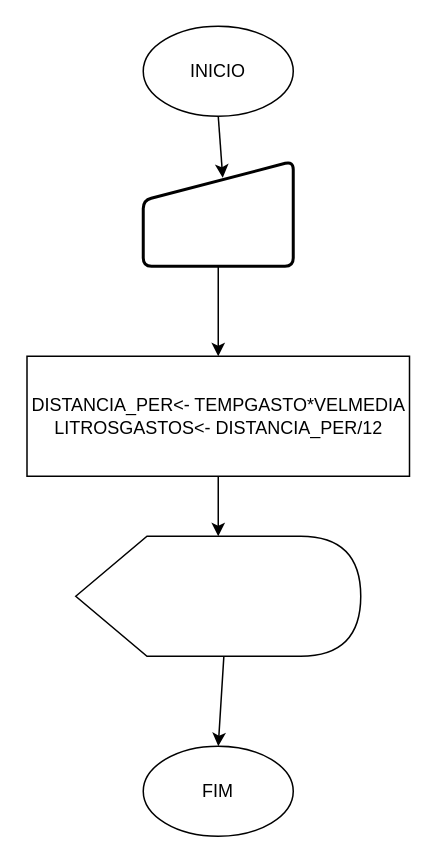
Image size: 435x863. Some labels were removed from this diagram. Here are the shapes that lost their labels. From the top down, the centre of each, then its label:
the point at 217,213: VELMEDIA, TEMPGASTO
the point at 217,595: VELMEDIA, TEMPGASTO, DISTANCIA_PER, LITROSGASTOS
